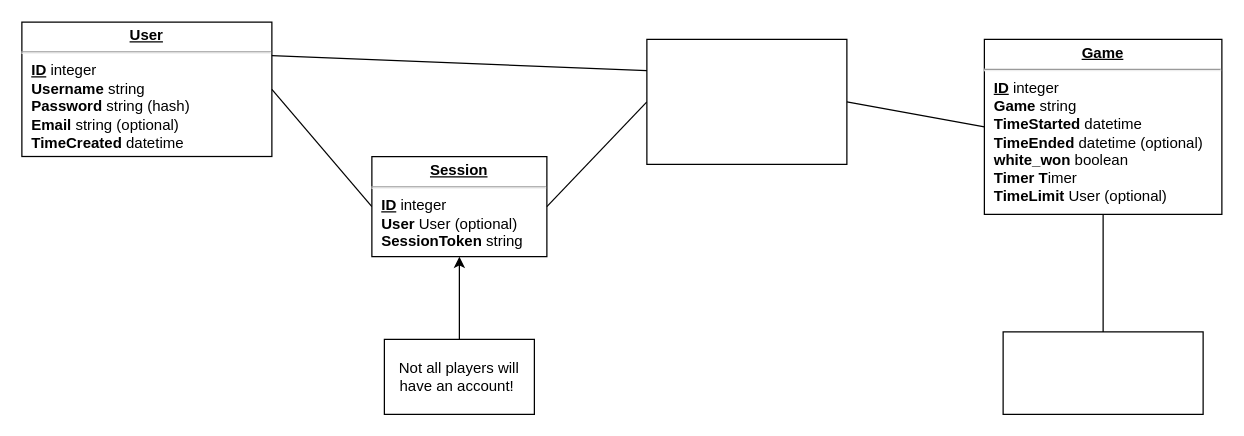
Image size: 1244x436. Some labels were removed from this diagram. The centre of each missing label's shape, as x and y in pixels:
"Player ID integer Game Game Session Session (optional) User User (optional)" goes at point (746, 101).
"Timer ID integer Name string" goes at point (1102, 372).
